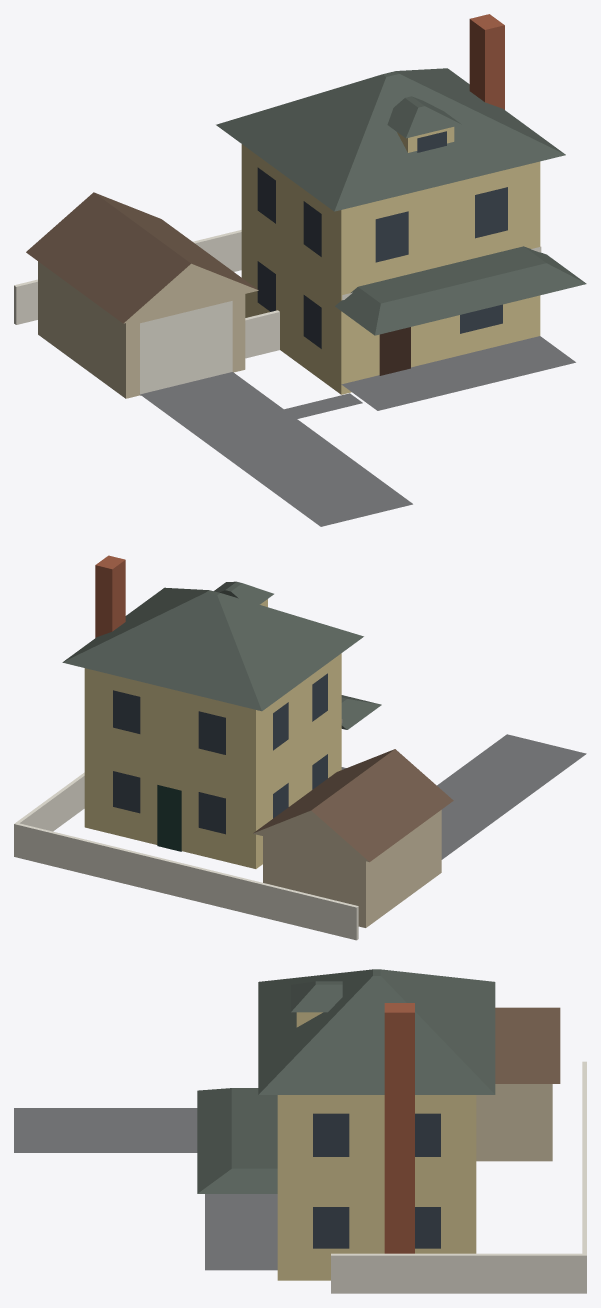
File: house_d_far.glb
3 renders of one model, top to bottom at view 1: azimuth 30°, elevation 25°; view 2: azimuth 150°, elevation 25°; view 3: azimuth 270°, elevation 25°, orthographic. The views are drawn at different scales.
Parts seen in each view (by area): view 1: house_d_far; view 2: house_d_far; view 3: house_d_far.
Part boxes in pixels (x1,y1,x2,y2): house_d_far: (14,14,586,526); house_d_far: (14,555,586,940); house_d_far: (14,969,586,1293).
Size of the model in its own units: 12.05 by 8 by 15.
